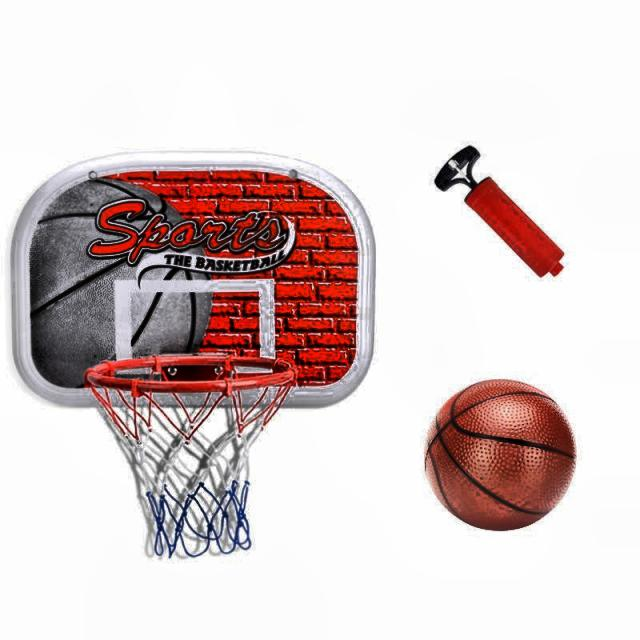board: (424, 377, 578, 533)
rim: (82, 358, 296, 558)
